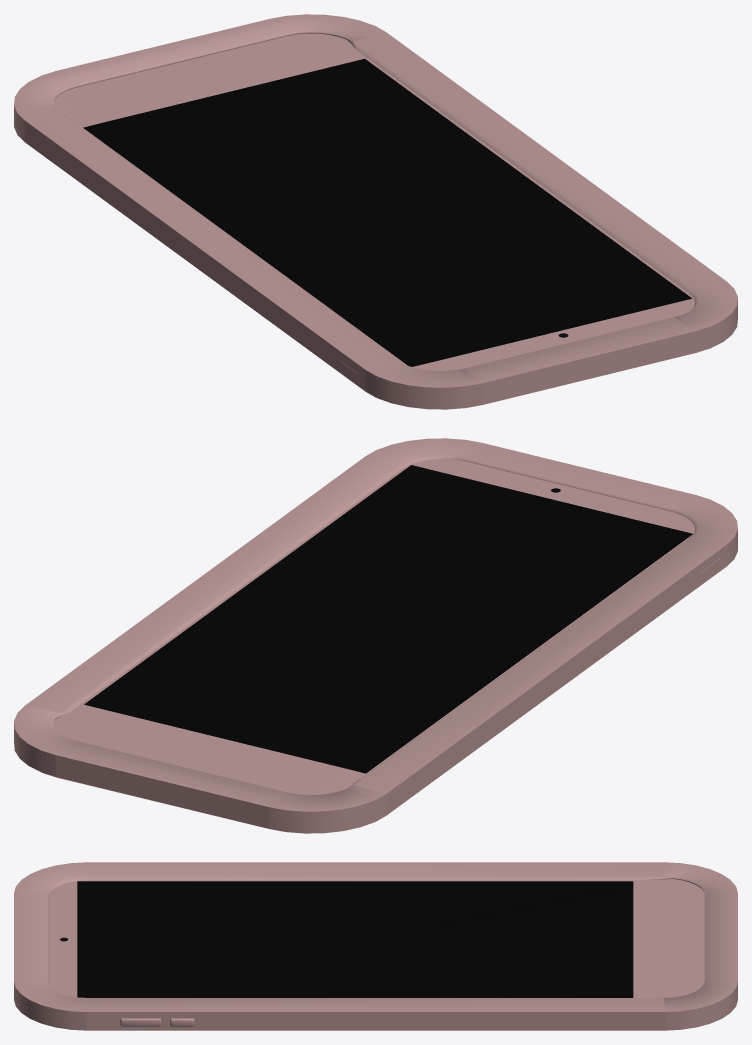
3 views of the same model, one above another, from view 1: azimuth 30°, elevation 25°; view 2: azimuth 150°, elevation 25°; view 3: azimuth 270°, elevation 25° (orthographic). The views are drawn at different scales.
Visible parts, largest first — view 1: Object001, g; view 2: Object001, g; view 3: Object001, g, ChamferBox001.
Boxes of the visible parts, <box> form: Object001: <box>83,59,691,366</box>; g: <box>14,14,737,409</box>; Object001: <box>84,465,692,773</box>; g: <box>14,438,737,833</box>; Object001: <box>77,881,633,997</box>; g: <box>14,862,737,1030</box>; ChamferBox001: <box>120,1018,161,1026</box>.
Bounding box in the file's own units: 221 × 16.84 × 448.
